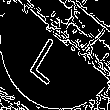L_NE: (32, 25, 78, 85)
